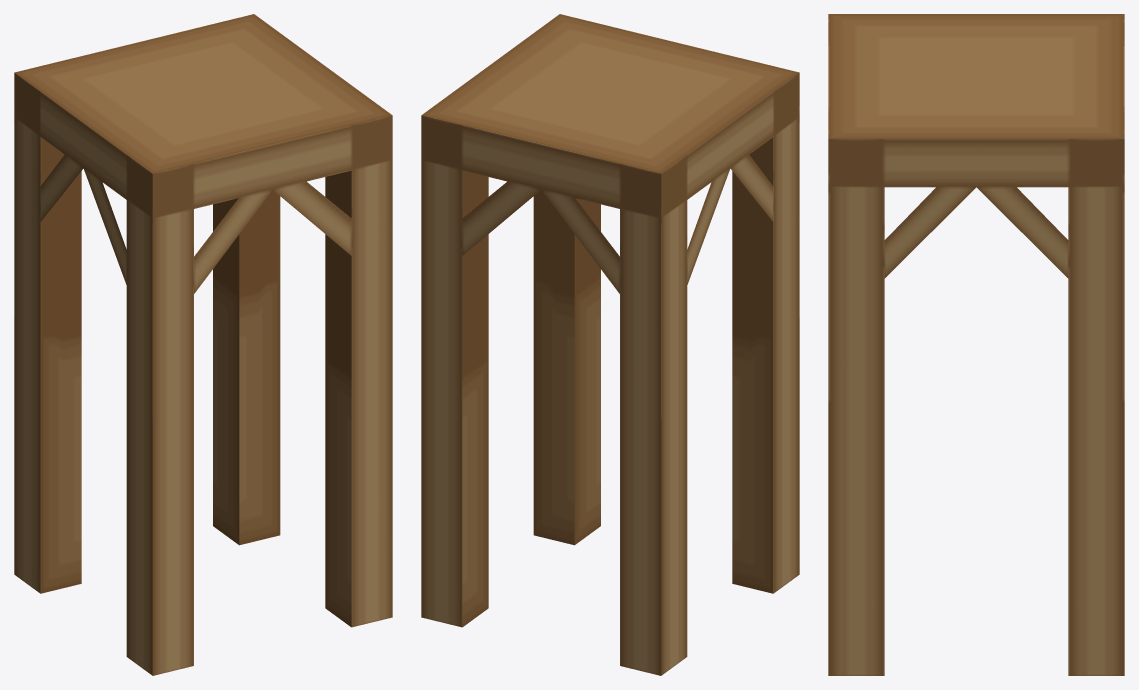
File: scaffolding.fbx
3 views of the same model, side by side, from view 1: azimuth 30°, elevation 25°; view 2: azimuth 150°, elevation 25°; view 3: azimuth 270°, elevation 25° (orthographic). The views are drawn at different scales.
Visible parts, largest first — view 1: Cube; view 2: Cube; view 3: Cube.
Boxes of the visible parts, x1,y1,x2,y2 form: Cube: (14,14,392,675); Cube: (421,14,799,675); Cube: (828,14,1124,675).
Size of the model in its own units: 200 by 400 by 200.
